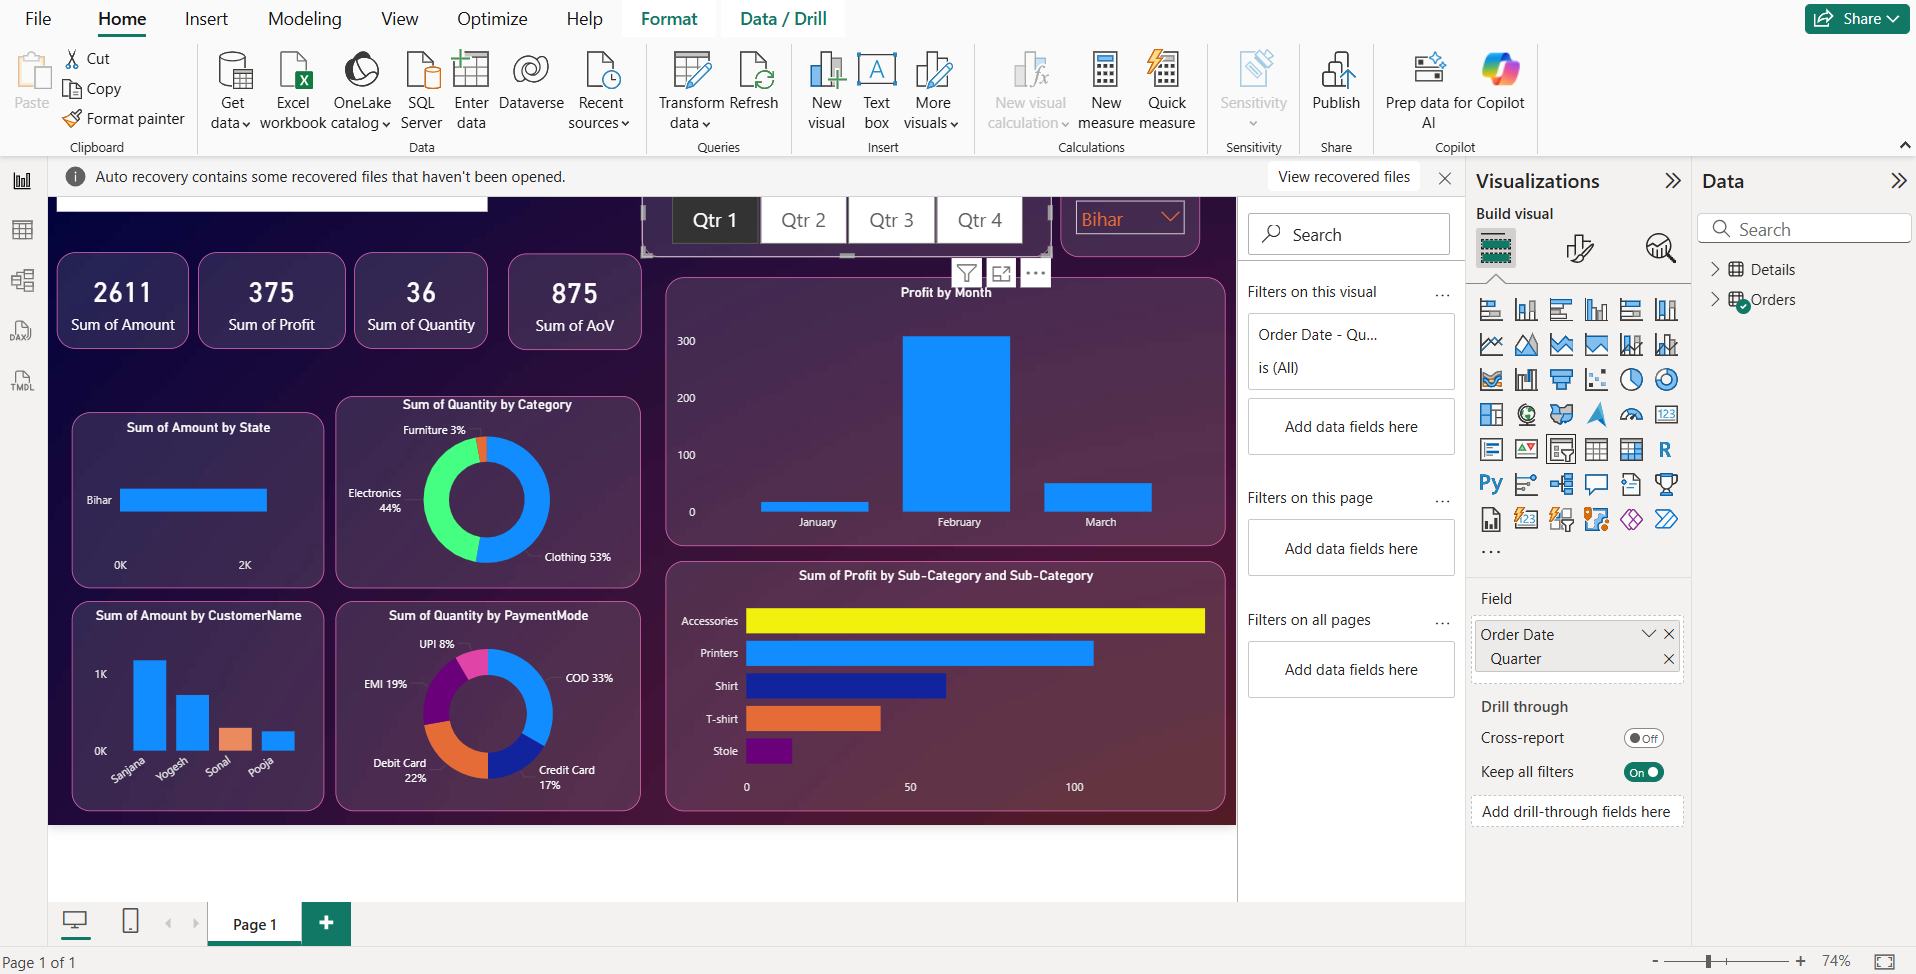

What the dashboard file says about the page in this screenshot:
{"tool":"powerbi","page":{"name":"Page 1","canvas":[1280,720],"ordinal":0},"visuals":[{"type":"textbox","box":[9.6,0,463.8,60.4],"z":0},{"type":"lineClusteredColumnComboChart","title":"Profit by Month","fields":{"Category":["Orders.Order Date.Variation.Date Hierarchy.Month"],"Y":["Sum(Details.Profit)"]},"box":[665,130.6,603.1,289.4],"z":1000},{"type":"barChart","fields":{"Category":["Details.Sub-Category"],"Series":["Details.Sub-Category"],"Y":["Sum(Details.Profit)"]},"box":[665,436.2,603.1,269.2],"z":2000},{"type":"donutChart","fields":{"Category":["Details.Category"],"Y":["Sum(Details.Quantity)"]},"box":[309.6,258.5,328.5,207.3],"z":3000},{"type":"donutChart","fields":{"Y":["Sum(Details.Quantity)"],"Series":["Details.PaymentMode"]},"box":[309.6,479.3,328.5,226.2],"z":4000},{"type":"card","fields":{"Values":["Sum(Details.Amount)"]},"box":[9.4,103.7,142.7,103.7],"z":5000},{"type":"card","fields":{"Values":["Sum(Details.Profit)"]},"box":[161.5,103.7,158.9,103.7],"z":6000},{"type":"card","fields":{"Values":["Sum(Details.Quantity)"]},"box":[329.8,103.7,144,103.7],"z":7000},{"type":"card","fields":{"Values":["Sum(Details.AoV)"]},"box":[495.4,105,144,103.7],"z":8000},{"type":"barChart","fields":{"Category":["Orders.State"],"Y":["Sum(Details.Amount)"]},"box":[25.6,276,271.9,189.8],"z":9000},{"type":"columnChart","fields":{"Category":["Orders.CustomerName"],"Y":["Sum(Details.Amount)"]},"box":[25.6,479.3,271.9,226.2],"z":10000},{"type":"slicer","fields":{"Values":["Orders.Order Date.Variation.Date Hierarchy.Quarter"]},"box":[639.5,12.1,441.6,96.9],"z":11000},{"type":"slicer","fields":{"Values":["Orders.State"]},"box":[1090.5,12.1,150.8,96.9],"z":12000}]}

Visuals, with their boxes on the page's 1280x720 design canvas (x1, y1, x2, y2). These are canvas units, not pixel positions in the 1916x974 screenshot, which may show the page scaled, cropped or inside an application window:
textbox: [x1=10, y1=0, x2=473, y2=60]
"Profit by Month" lineClusteredColumnComboChart: [x1=665, y1=131, x2=1268, y2=420]
barChart - Details.Sub-Category x Details.Sub-Category: [x1=665, y1=436, x2=1268, y2=705]
donutChart - Details.Category x Sum(Details.Quantity): [x1=310, y1=258, x2=638, y2=466]
donutChart - Sum(Details.Quantity) x Details.PaymentMode: [x1=310, y1=479, x2=638, y2=706]
card - Sum(Details.Amount): [x1=9, y1=104, x2=152, y2=207]
card - Sum(Details.Profit): [x1=162, y1=104, x2=320, y2=207]
card - Sum(Details.Quantity): [x1=330, y1=104, x2=474, y2=207]
card - Sum(Details.AoV): [x1=495, y1=105, x2=639, y2=209]
barChart - Orders.State x Sum(Details.Amount): [x1=26, y1=276, x2=298, y2=466]
columnChart - Orders.CustomerName x Sum(Details.Amount): [x1=26, y1=479, x2=298, y2=706]
slicer - Orders.Order Date.Variation.Date Hierarchy.Quarter: [x1=640, y1=12, x2=1081, y2=109]
slicer - Orders.State: [x1=1090, y1=12, x2=1241, y2=109]
